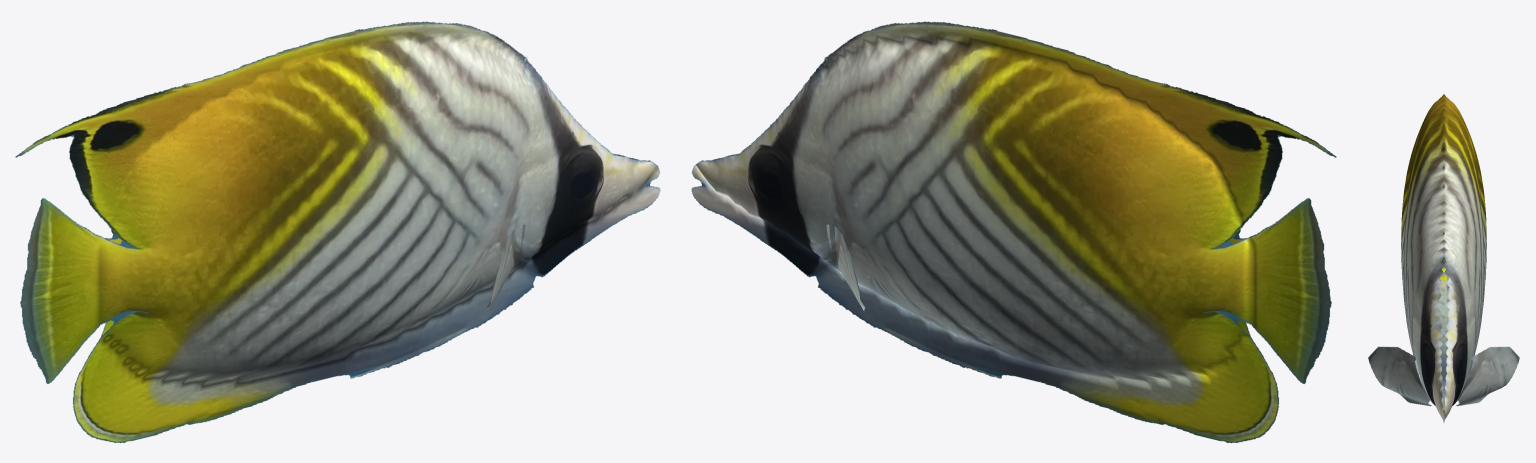
The model's file is species-butterfly-photo.glb.
3 renders of one model, left to right at view 1: azimuth 30°, elevation 25°; view 2: azimuth 150°, elevation 25°; view 3: azimuth 270°, elevation 25°, orthographic. The views are drawn at different scales.
Visible parts, largest first — view 1: angel; view 2: angel; view 3: angel.
Part boxes in pixels (x1,y1,x2,y2): angel: (15,21,660,443); angel: (691,21,1336,443); angel: (1368,94,1519,422).
Bounding box in the file's own units: 0.1005 × 0.0533 × 0.0256.
Materials: 1 (1 with a texture image).
